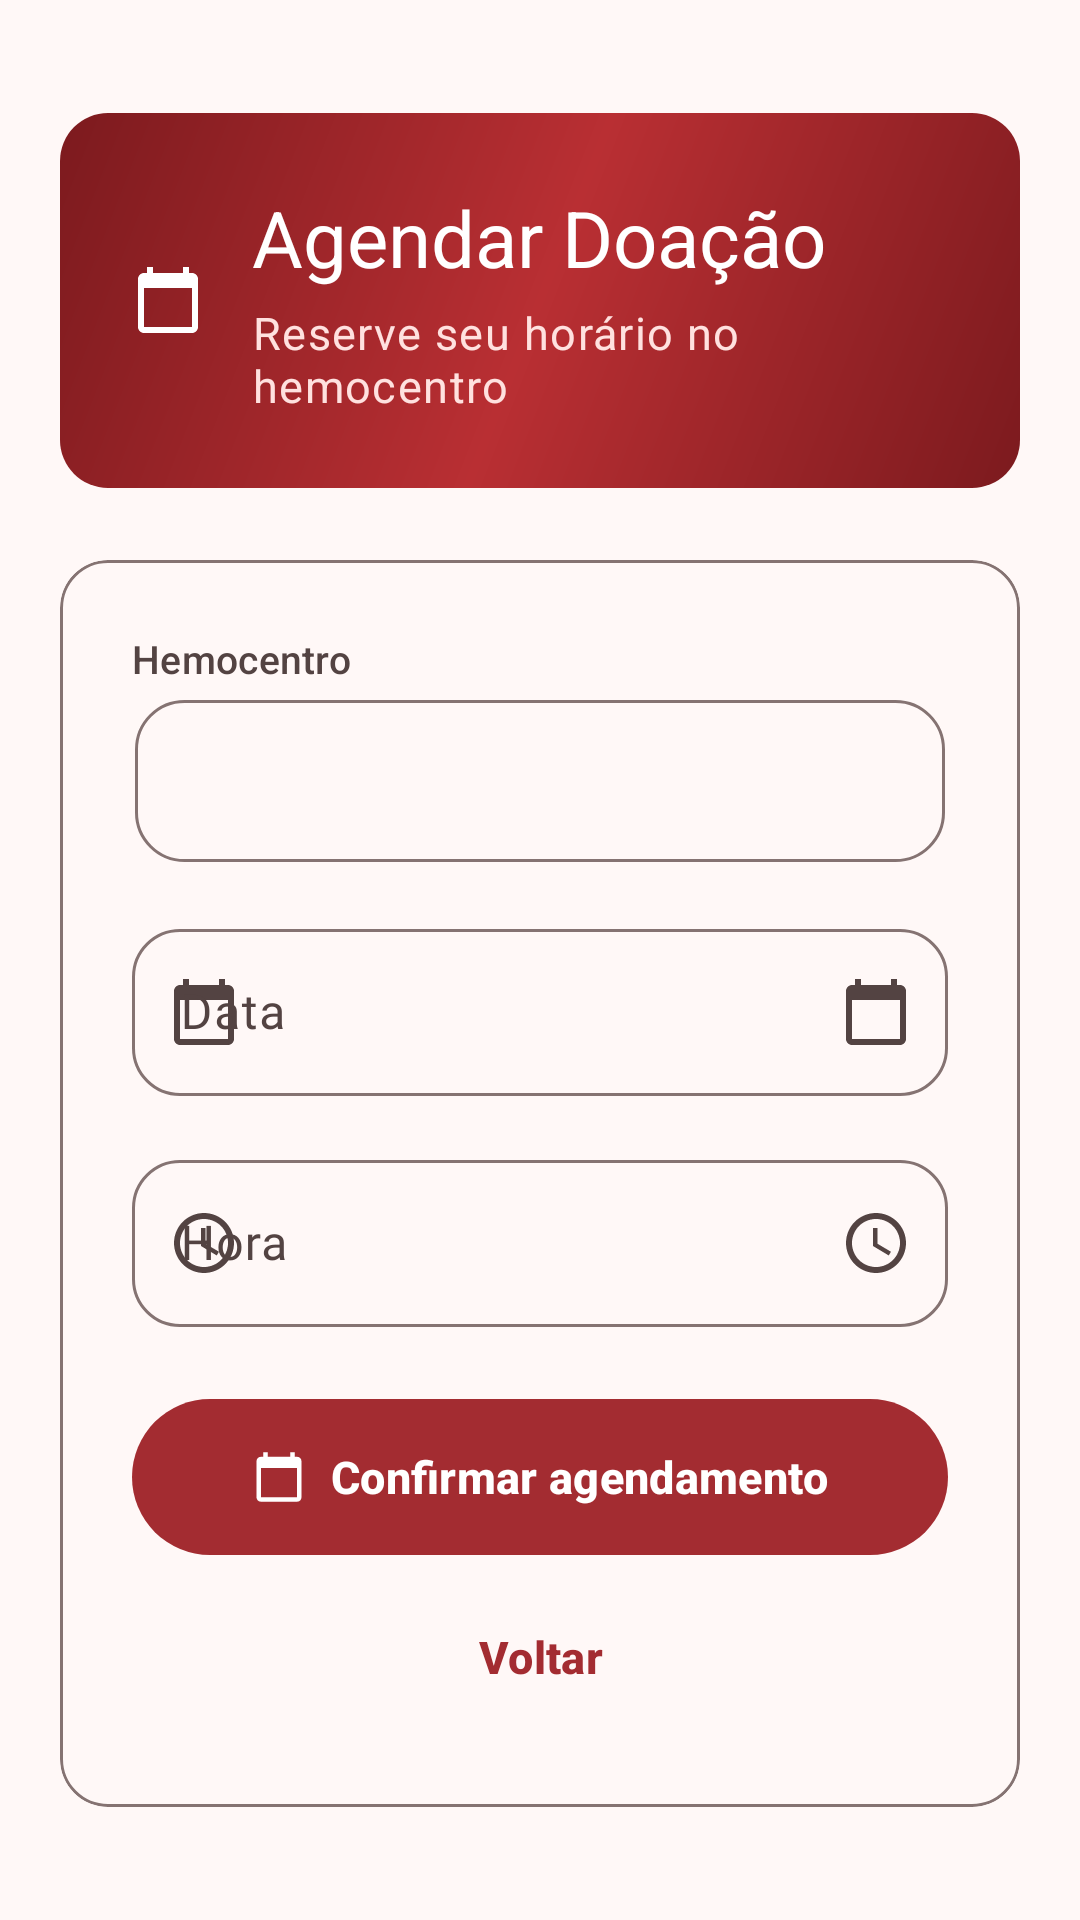

Where to tap for icons on this 1080×1920 app screen, as [x,y]:
calendar: [168,300]
